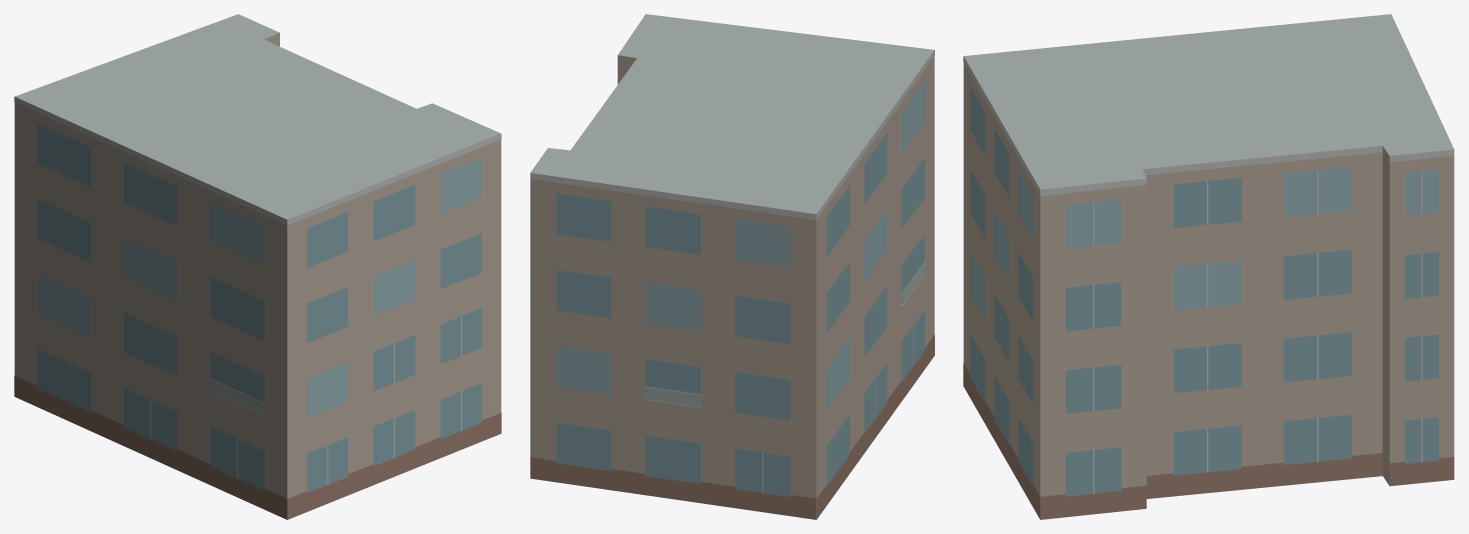
Rendered from survey-upis-33018204.glb.
3 views of the same model, side by side, from view 1: azimuth 30°, elevation 25°; view 2: azimuth 150°, elevation 25°; view 3: azimuth 270°, elevation 25° (orthographic). The views are drawn at different scales.
Parts seen in each view (by area): view 1: survey-upis-33018204.tmp; view 2: survey-upis-33018204.tmp; view 3: survey-upis-33018204.tmp.
Part boxes in pixels (x1,y1,x2,y2): survey-upis-33018204.tmp: (14, 14, 501, 519); survey-upis-33018204.tmp: (530, 14, 934, 519); survey-upis-33018204.tmp: (963, 14, 1454, 519).
Bounding box in the file's own units: 14.16 × 12.4 × 16.72.
